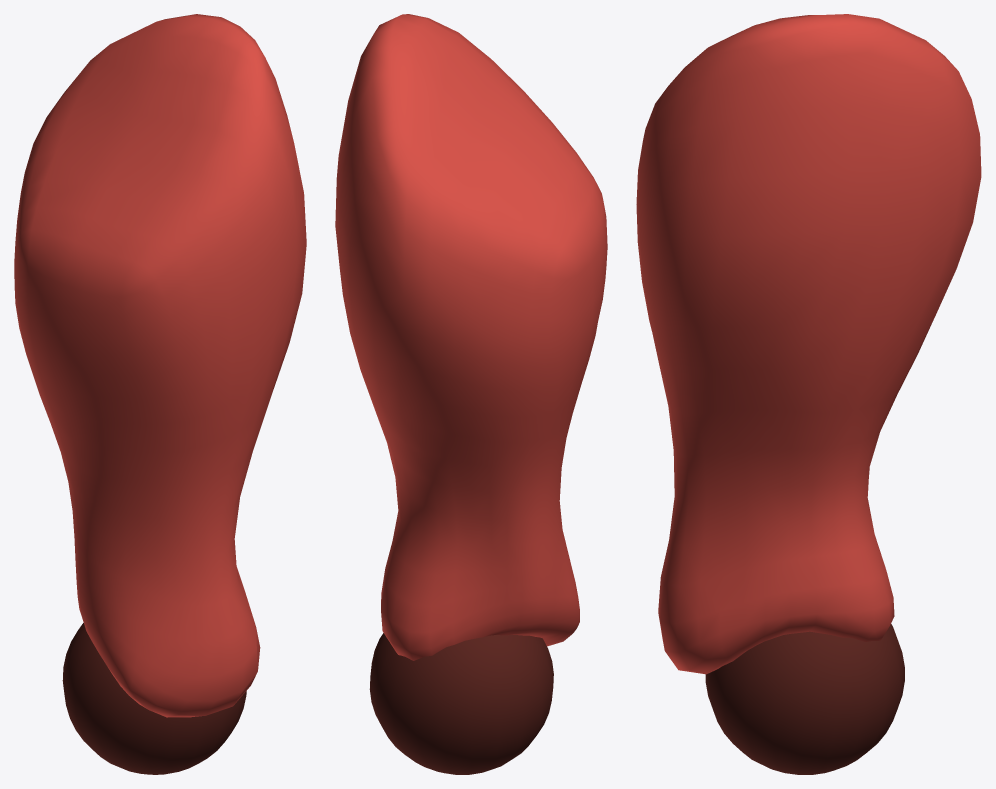
File: musloIz.obj
3 views of the same model, side by side, from view 1: azimuth 30°, elevation 25°; view 2: azimuth 150°, elevation 25°; view 3: azimuth 270°, elevation 25° (orthographic). The views are drawn at different scales.
Visible parts, largest first — view 1: Beta_Surface.006_Mesh.009, Beta_Joints.008_Mesh.016; view 2: Beta_Surface.006_Mesh.009, Beta_Joints.008_Mesh.016; view 3: Beta_Surface.006_Mesh.009, Beta_Joints.008_Mesh.016.
Part boxes in pixels (bbox=[...]): Beta_Surface.006_Mesh.009: bbox=[14, 14, 306, 717]; Beta_Joints.008_Mesh.016: bbox=[62, 623, 246, 774]; Beta_Surface.006_Mesh.009: bbox=[335, 14, 607, 660]; Beta_Joints.008_Mesh.016: bbox=[369, 633, 553, 774]; Beta_Surface.006_Mesh.009: bbox=[636, 14, 981, 674]; Beta_Joints.008_Mesh.016: bbox=[705, 624, 904, 774].
Size of the model in its own units: 0.1821 by 0.5284 by 0.2108.
